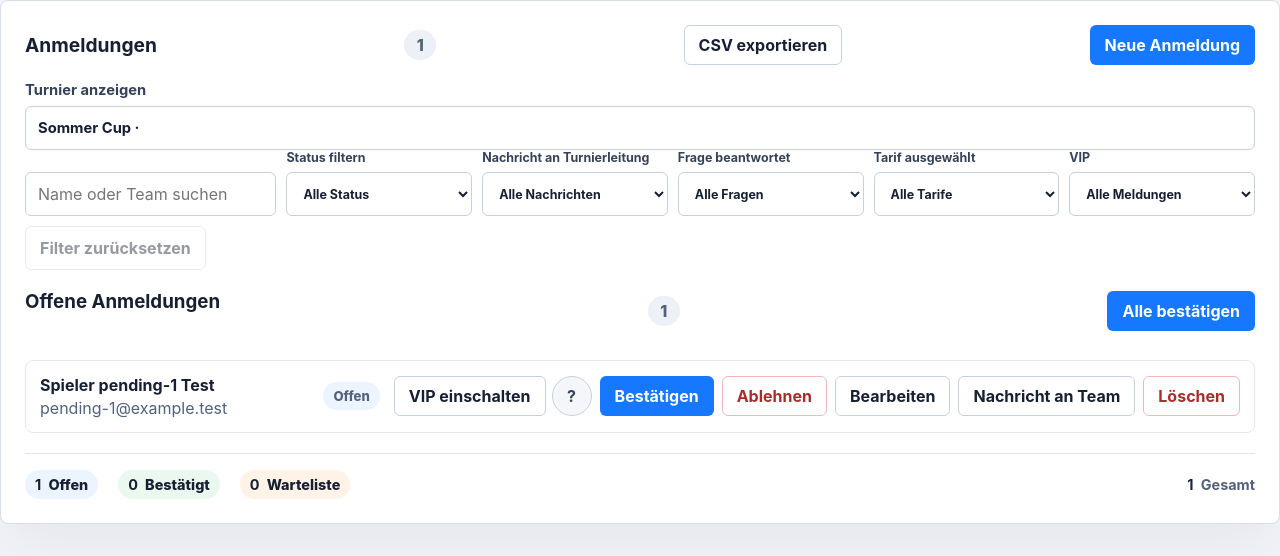
Anmeldungsverwaltung: Freigabe und Storno durch die Turnierleitung › bestätigt eine offene Anmeldung einzeln und lädt die Liste danach neu
The image size is (1280, 556).
Click the button "Bestätigen". click: (657, 396)
box: [600,376,714,416]
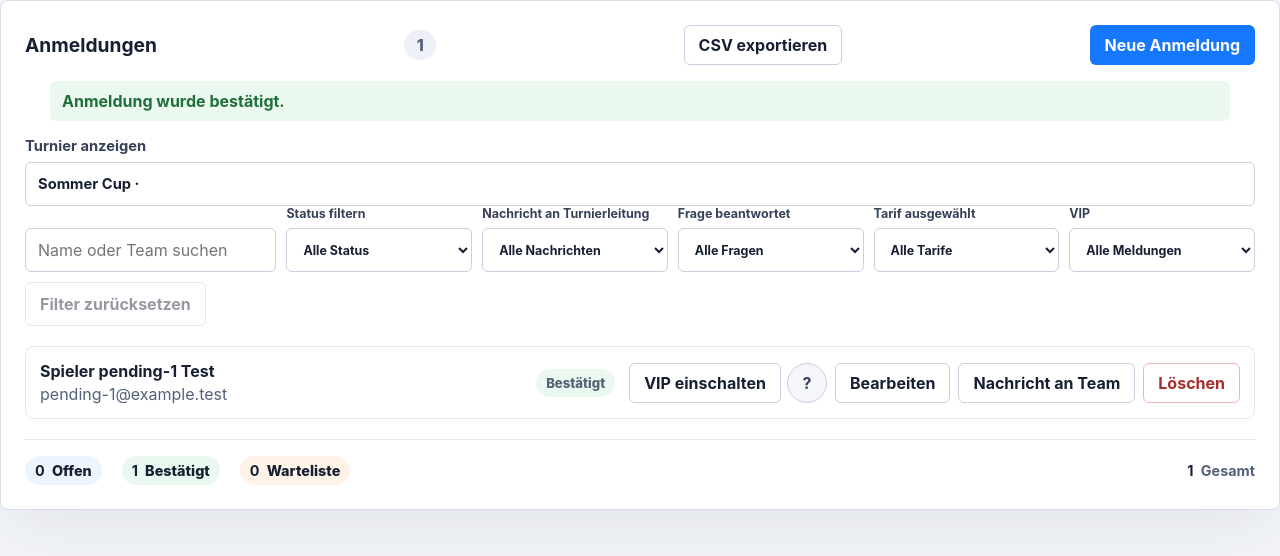
Check: the text "Anmeldung wurde bestätigt." is shown, box [50,81,1230,121]
Check: the button "bestätigen" is gone
